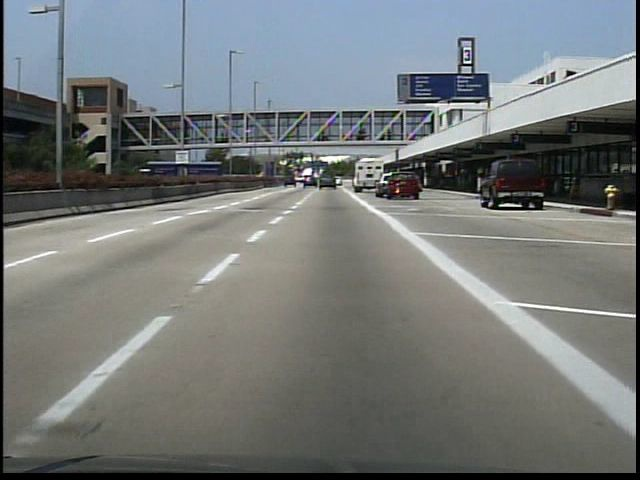person: (409, 171, 425, 198)
